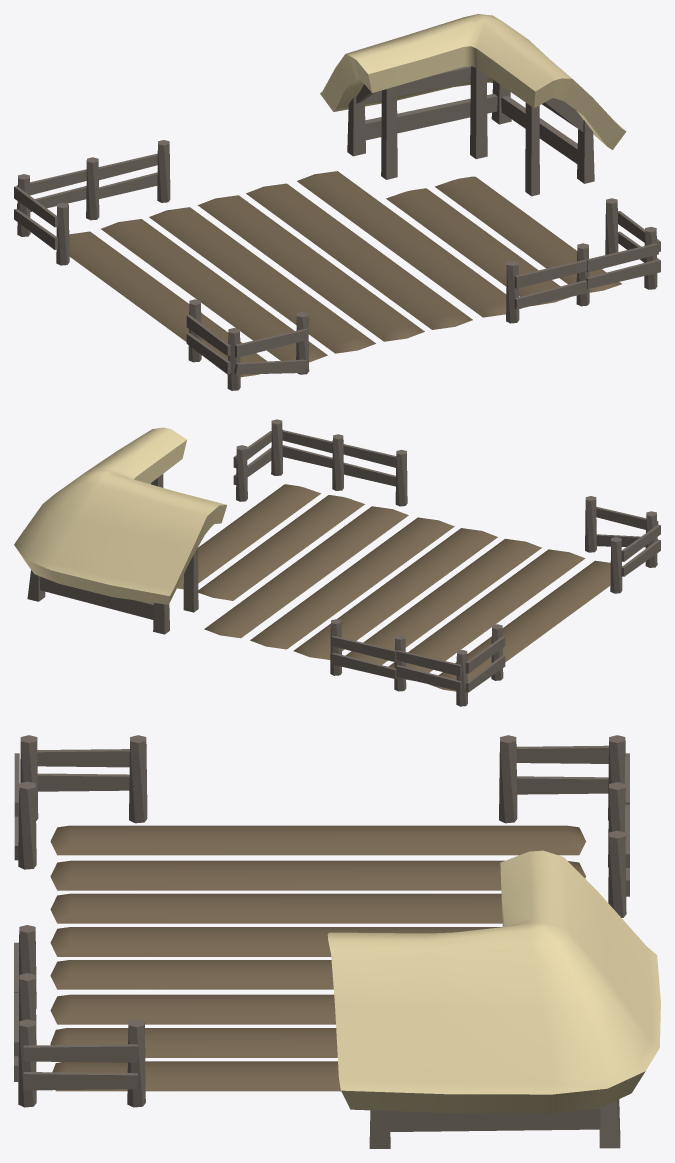
File: MESH_Farm.fbx
3 renders of one model, top to bottom at view 1: azimuth 30°, elevation 25°; view 2: azimuth 150°, elevation 25°; view 3: azimuth 270°, elevation 25°, orthographic. The views are drawn at different scales.
Parts seen in each view (by area): view 1: MESH_Farm; view 2: MESH_Farm; view 3: MESH_Farm.
Part boxes in pixels (x1=…): MESH_Farm: x1=14, y1=14, x2=660, y2=390; MESH_Farm: x1=14, y1=419, x2=660, y2=706; MESH_Farm: x1=14, y1=735, x2=660, y2=1148.
Size of the model in its own units: 805 by 198 by 622.
